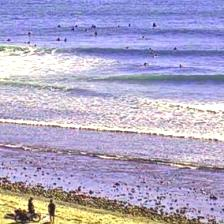surfer: (144, 47, 152, 51), (2, 39, 11, 42), (54, 30, 62, 33), (24, 41, 31, 44), (153, 22, 157, 27), (83, 29, 88, 33), (56, 37, 61, 41), (124, 46, 130, 49), (152, 54, 158, 57), (31, 44, 37, 47), (71, 28, 75, 32), (92, 24, 96, 28), (144, 62, 148, 65), (173, 47, 177, 50), (141, 36, 144, 40), (150, 50, 154, 53), (95, 32, 98, 36), (115, 26, 120, 28), (75, 25, 78, 28), (65, 38, 67, 42), (57, 25, 61, 27), (27, 32, 31, 34), (180, 64, 182, 67), (129, 23, 131, 26)
